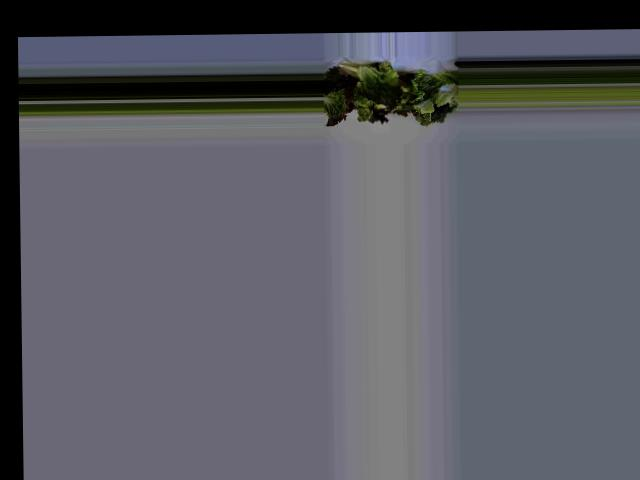lettuce: (327, 69, 451, 121)
